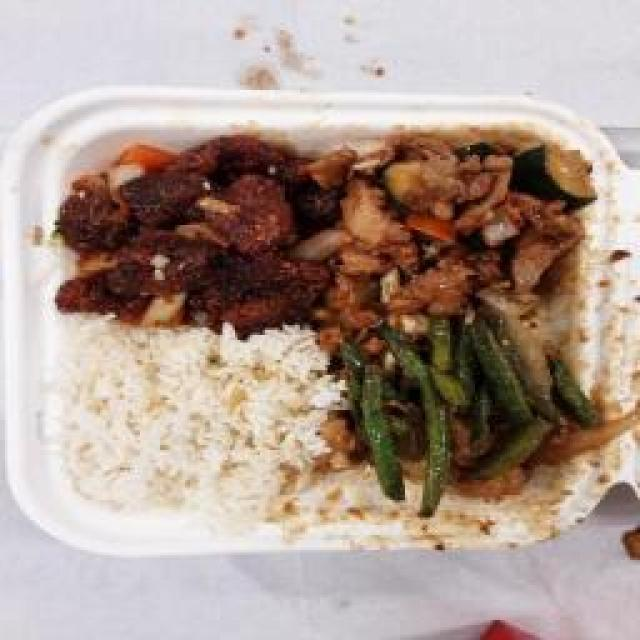Beijing Beef: (50, 127, 328, 335)
Kung Pao Chicken: (315, 123, 600, 328)
String Bean Chicken Breast: (338, 318, 601, 521)
White Steamed Rice: (57, 330, 325, 525)
